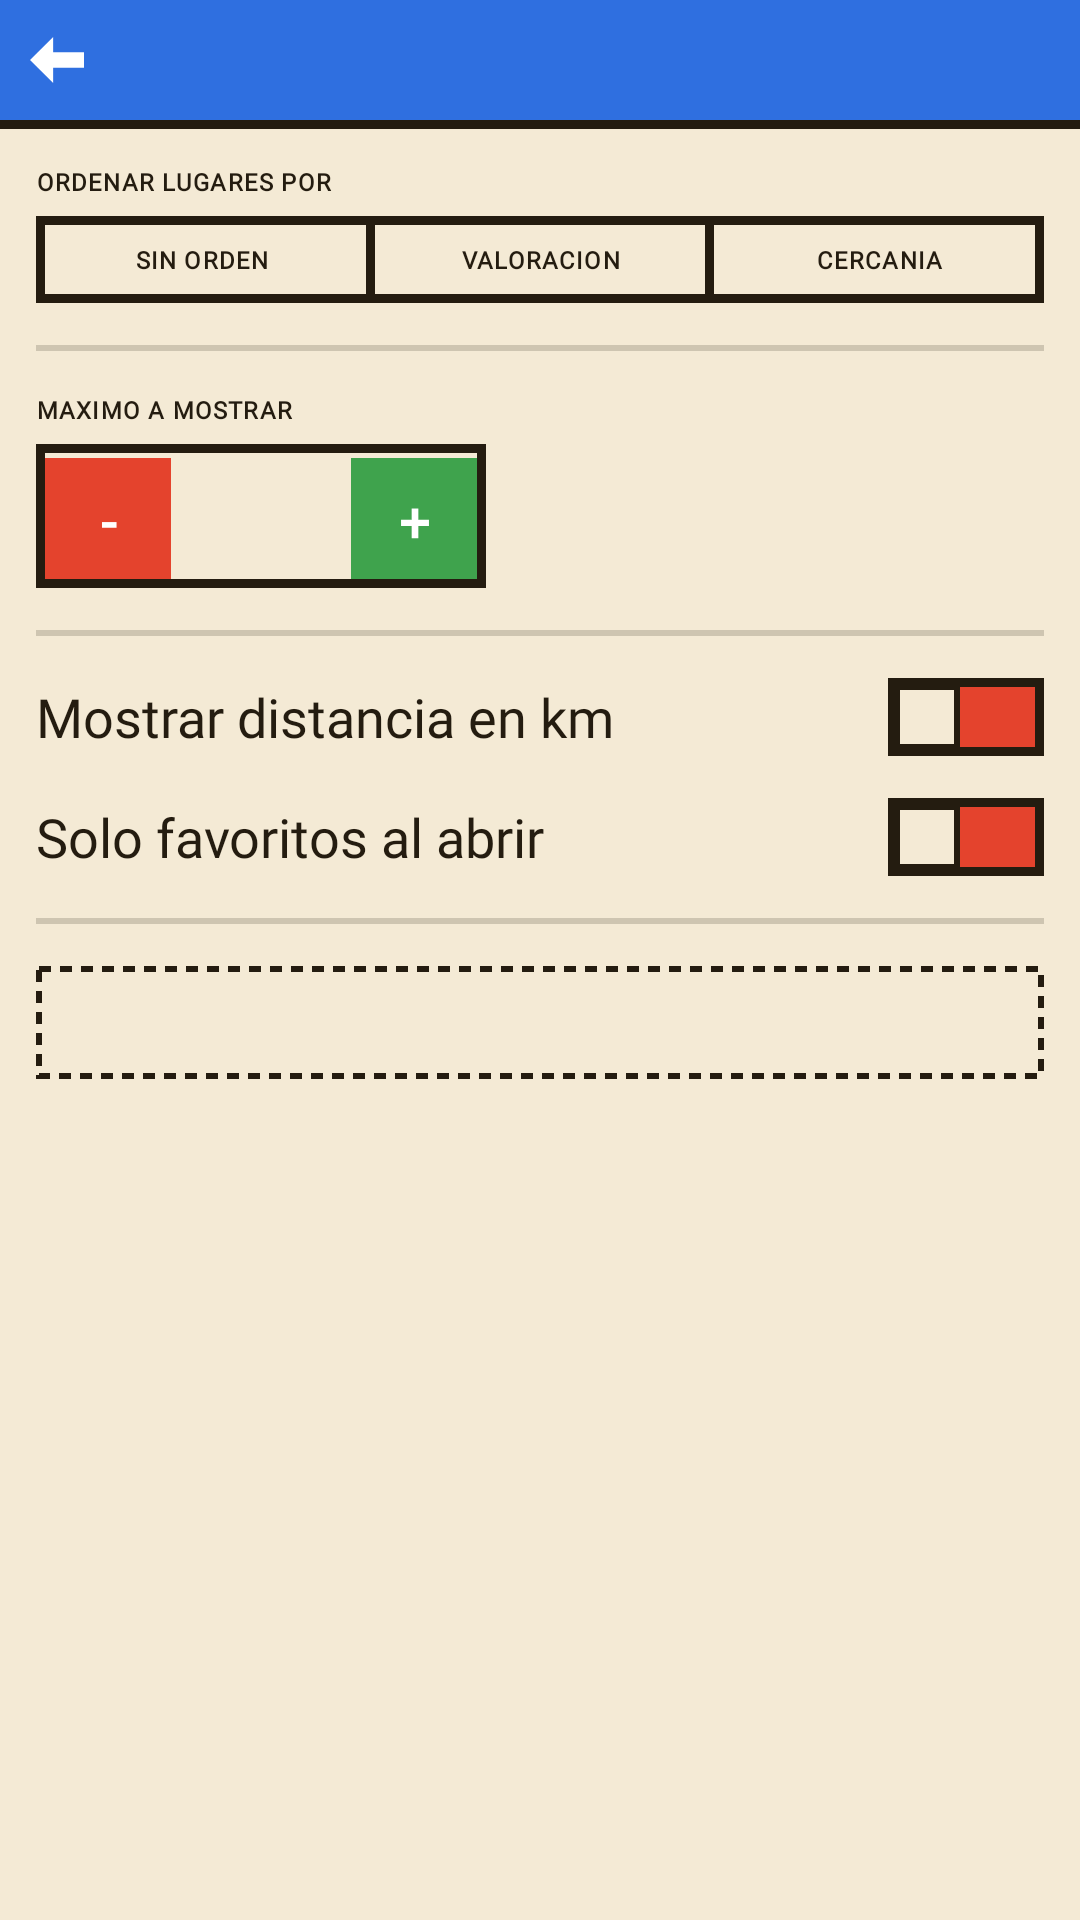

Icon click points for this 1080px x 1920px phone screenshot, format [x,y]:
Atrás: [57,60]
toggle pixel: [966,717], [966,837]
